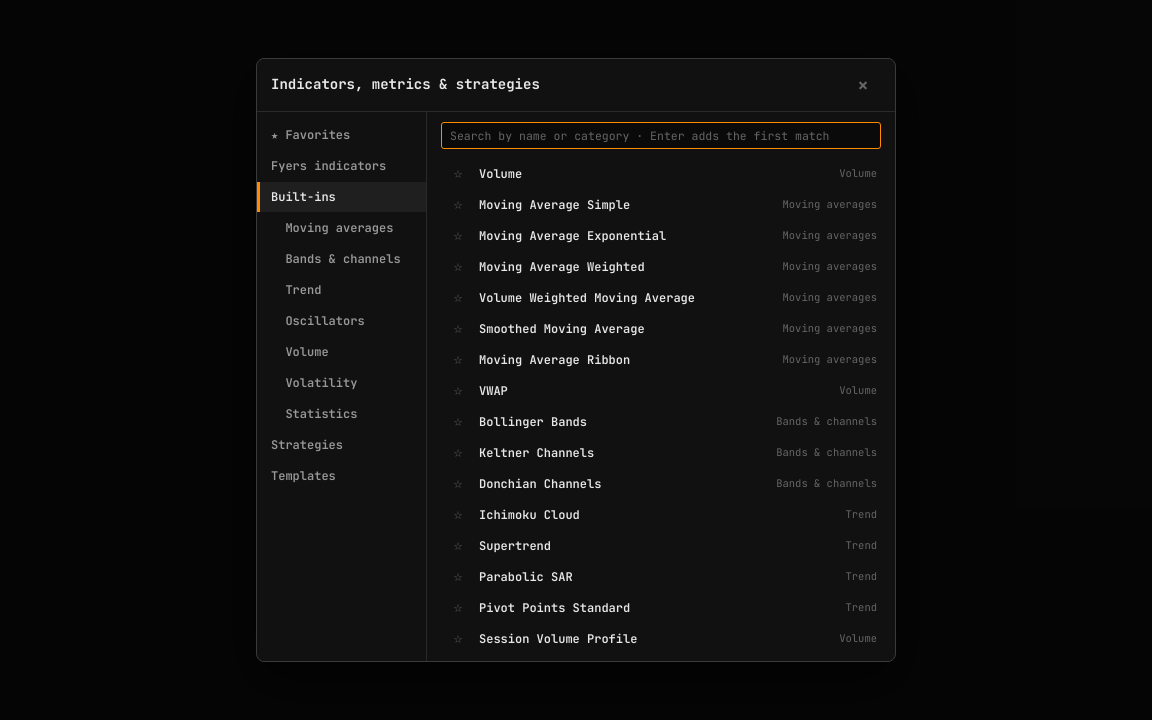
indicator picker › Enter adds the best match, and says what was added
Type "ema" into the field named "Search indicators" at (661, 135), box [441,122,881,149]
Then press Enter
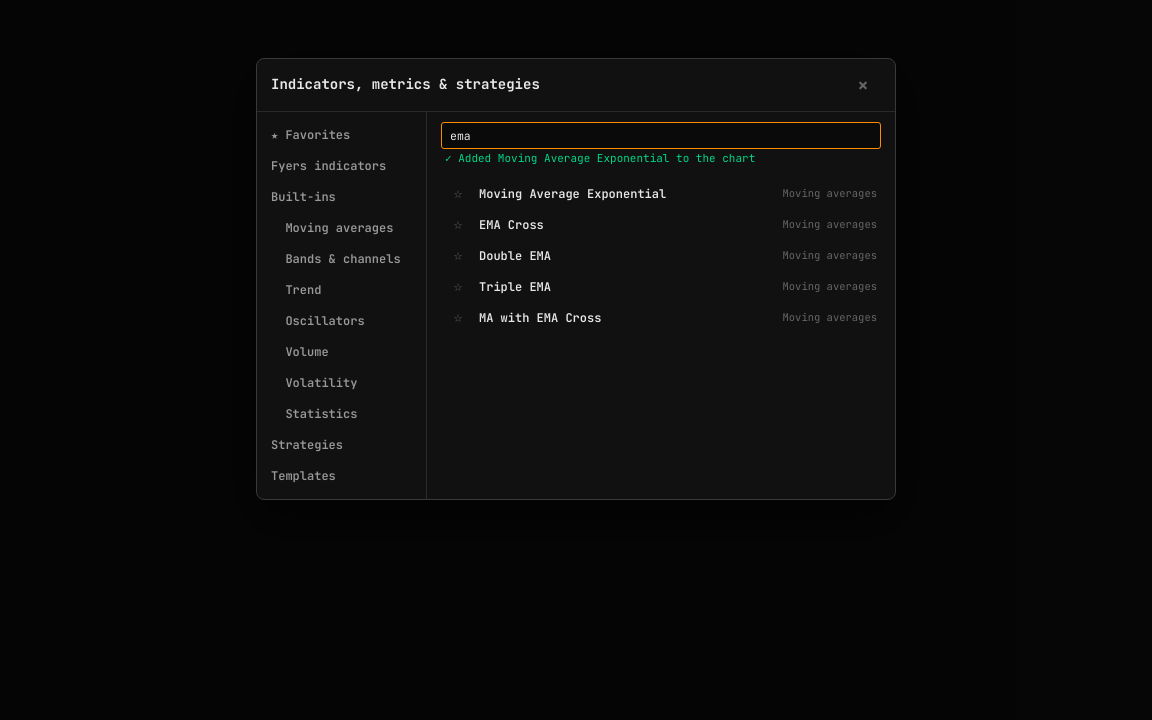
expect the message shows "Moving Average Exponential": met, box [498,151,669,165]
